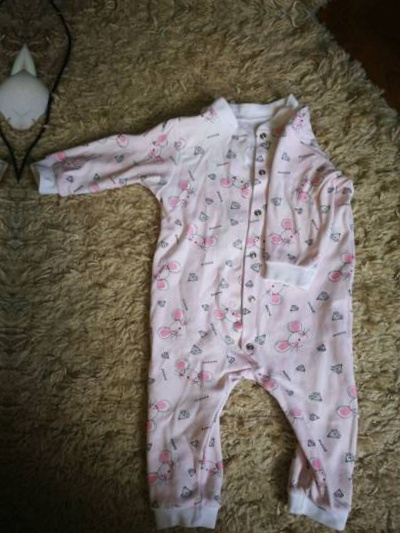Body: (15, 78, 400, 533), (0, 58, 9, 515)
